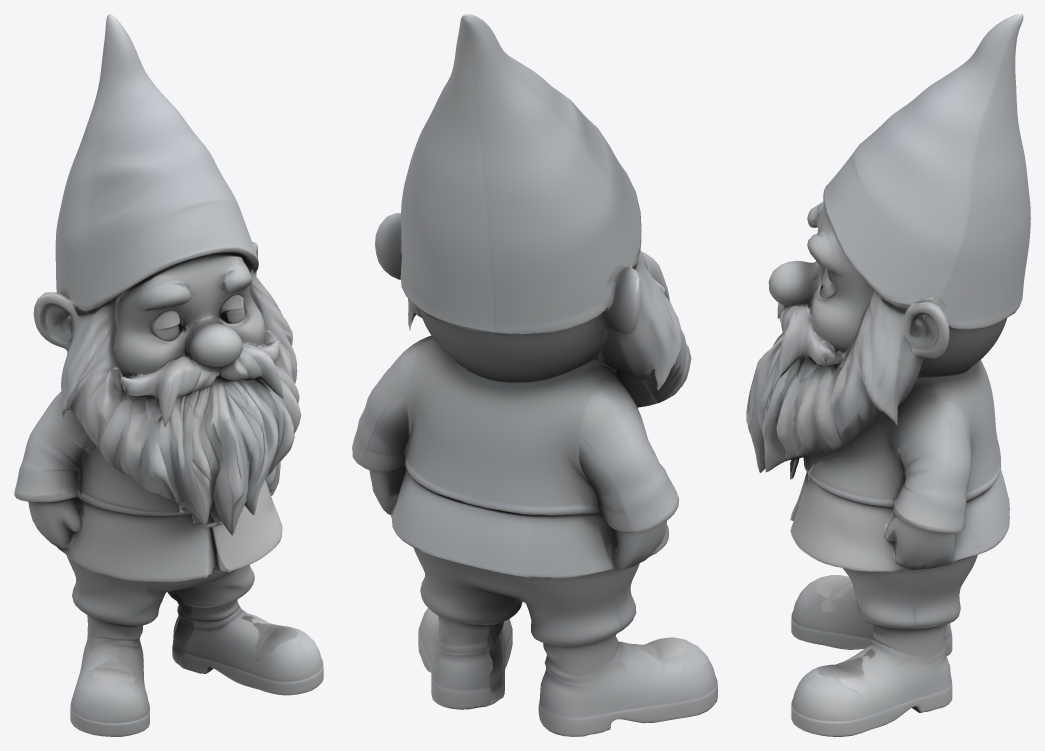
Rendered from 743257cd-c488-4047-9def-d3574caefbc4.glb.
3 renders of one model, left to right at view 1: azimuth 30°, elevation 25°; view 2: azimuth 150°, elevation 25°; view 3: azimuth 270°, elevation 25°, orthographic. The views are drawn at different scales.
Parts seen in each view (by area): view 1: model; view 2: model; view 3: model.
Boxes of the visible parts, x1,y1,x2,y2 form: model: (14, 14, 323, 736); model: (352, 14, 717, 736); model: (746, 14, 1030, 736).
Bounding box in the file's own units: 0.8566 × 1.9 × 0.7416.
Materials: 1 (1 with a texture image).
